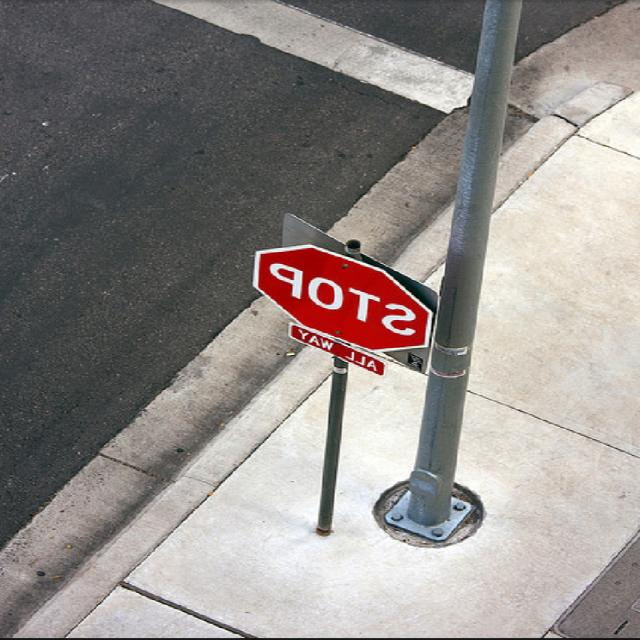STOP: (246, 244, 436, 364)
